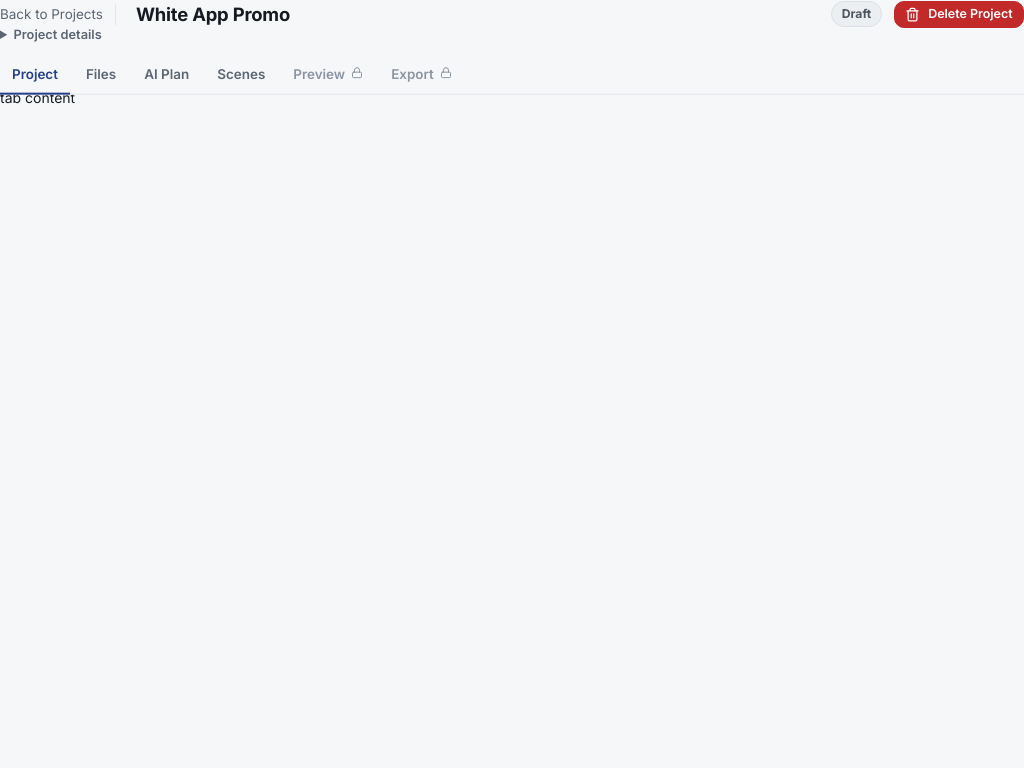
Test: ProjectWorkspaceShell - Delete Project › cancel leaves the project untouched - no delete request is ever sent
The image size is (1024, 768).
What coordinates should you click on to do the following:
click the button "Delete Project"
I would click on:
 (959, 14)
Its box is x1=894 y1=1 x2=1023 y2=28.
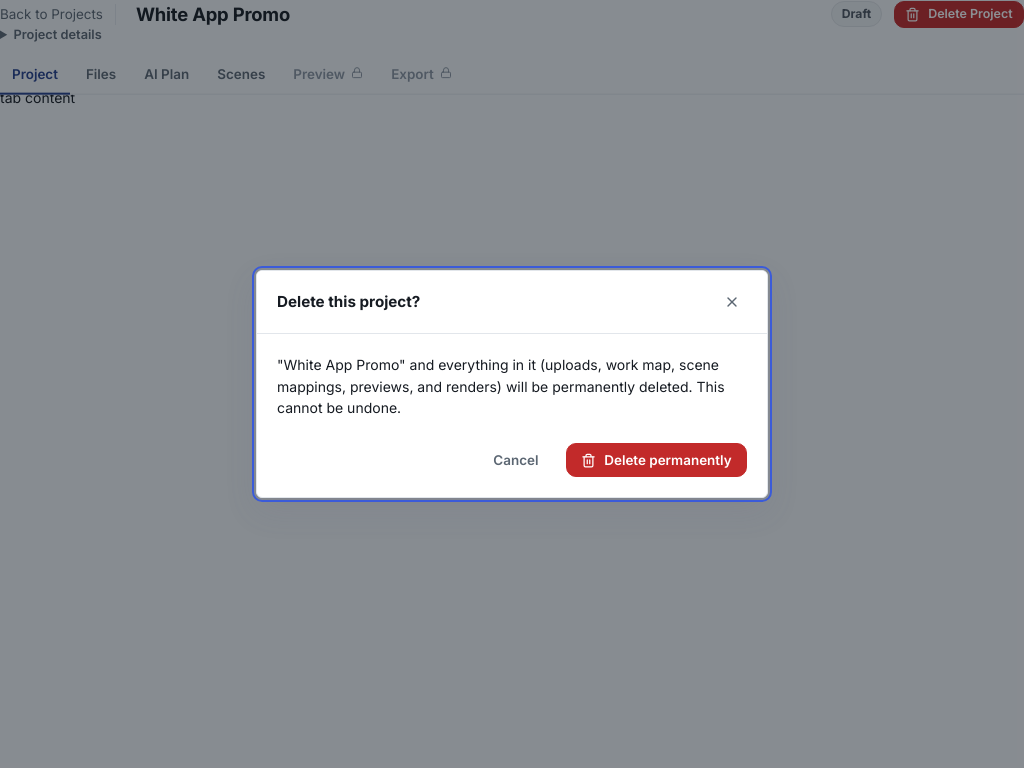
expect the text "Delete this project?" is shown: met, box x1=277 y1=290 x2=420 y2=314
What coordinates should you click on to do the following:
click the button "Cancel"
I would click on:
 (516, 460)
Its box is x1=478 y1=443 x2=554 y2=477.
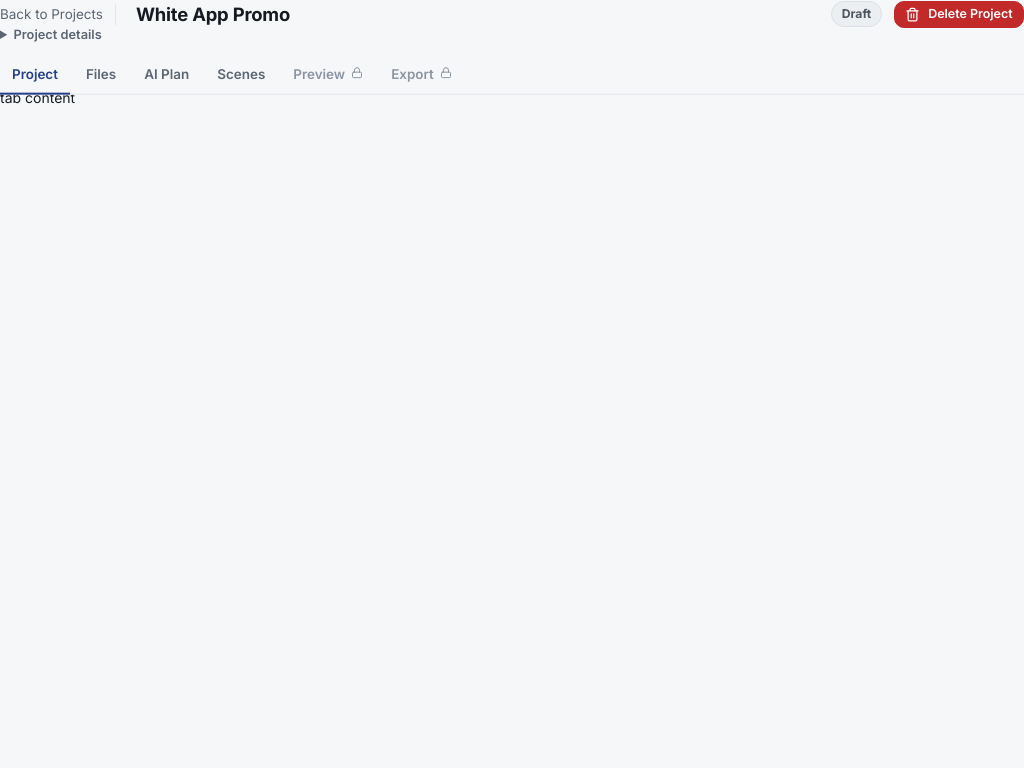
expect the text "Delete this project?" is gone: met
